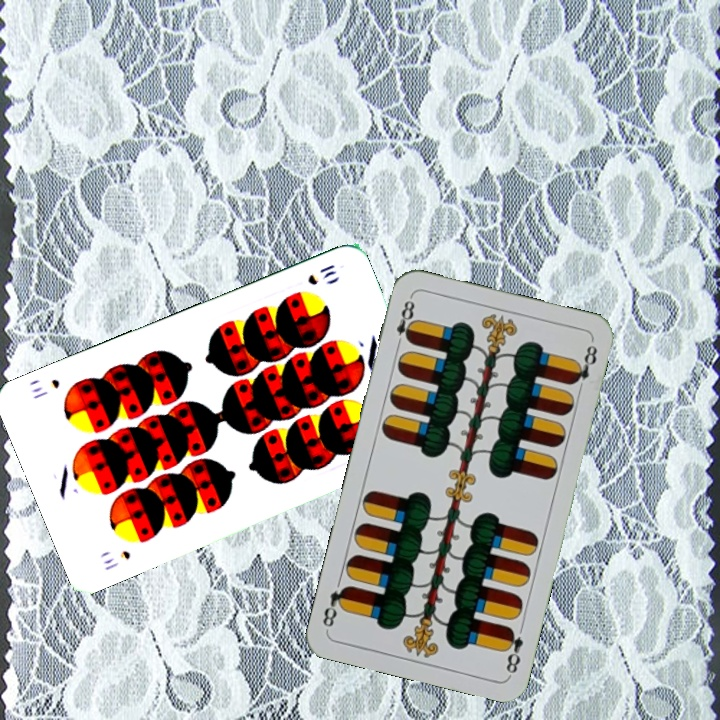E8: (500, 619, 527, 678), (392, 293, 418, 351)
S10: (303, 260, 339, 288), (99, 546, 133, 573)
